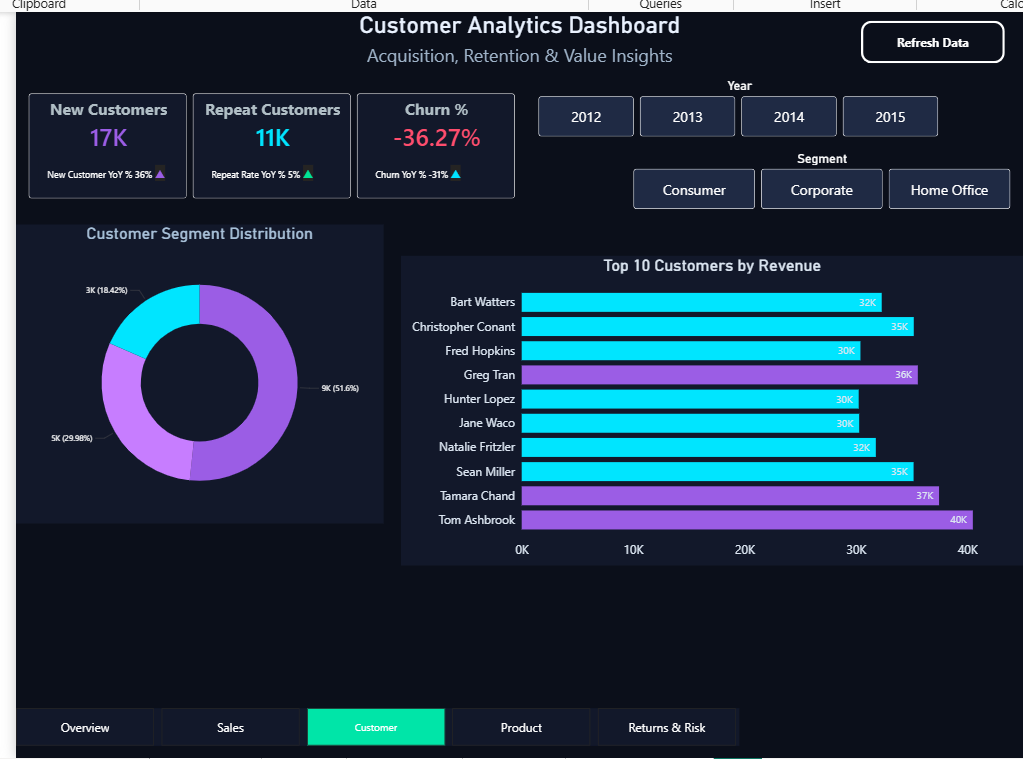

The dashboard page shown, as its layout file describes it:
{"tool":"powerbi","page":{"name":"Customer","canvas":[1350,1000],"ordinal":2},"visuals":[{"type":"textbox","title":"Customer Analytics Dashboard","box":[0,0,1350.5,78.8],"z":0},{"type":"cardVisual","fields":{"Data":["Orders.New Customers","Orders.Repeat Customers","Orders.Churn %"]},"box":[0,92.2,688.7,175.9],"z":1000},{"type":"donutChart","title":"Customer Segment Distribution","fields":{"Category":["Orders.Segment"],"Y":["Orders.Total Customers"]},"box":[0,284.9,492.6,400.5],"z":2000},{"type":"advancedSlicerVisual","fields":{"Values":["Date.Year"]},"box":[695.4,88.8,549.6,83.8],"z":4000},{"type":"advancedSlicerVisual","fields":{"Values":["Orders.Segment"]},"box":[822.7,186,516.1,83.8],"z":6000},{"type":"actionButton","box":[1132.7,11.7,192.7,57],"z":7000},{"type":"pageNavigator","box":[0,932.7,969.2,50],"z":8000},{"type":"clusteredBarChart","title":"Top 10 Customers by Revenue","fields":{"Category":["Orders.Customer Name"],"Y":["Orders.Customer Revenue"]},"box":[516.1,326.7,834.5,415.6],"z":9000}]}

Visuals, with their boxes on the page's 1350x1000 design canvas (x1, y1, x2, y2). These are canvas units, not pixel positions in the 1023x759 screenshot, which may show the page scaled, cropped or inside an application window:
"Customer Analytics Dashboard" textbox: crop(0, 0, 1350, 79)
cardVisual - Orders.New Customers x Orders.Repeat Customers: crop(0, 92, 689, 268)
"Customer Segment Distribution" donutChart: crop(0, 285, 493, 685)
advancedSlicerVisual - Date.Year: crop(695, 89, 1245, 173)
advancedSlicerVisual - Orders.Segment: crop(823, 186, 1339, 270)
actionButton: crop(1133, 12, 1325, 69)
pageNavigator: crop(0, 933, 969, 983)
"Top 10 Customers by Revenue" clusteredBarChart: crop(516, 327, 1351, 742)
